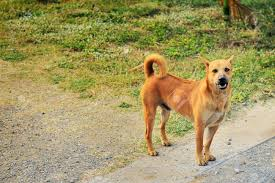dog_stand: (140, 53, 235, 169)
